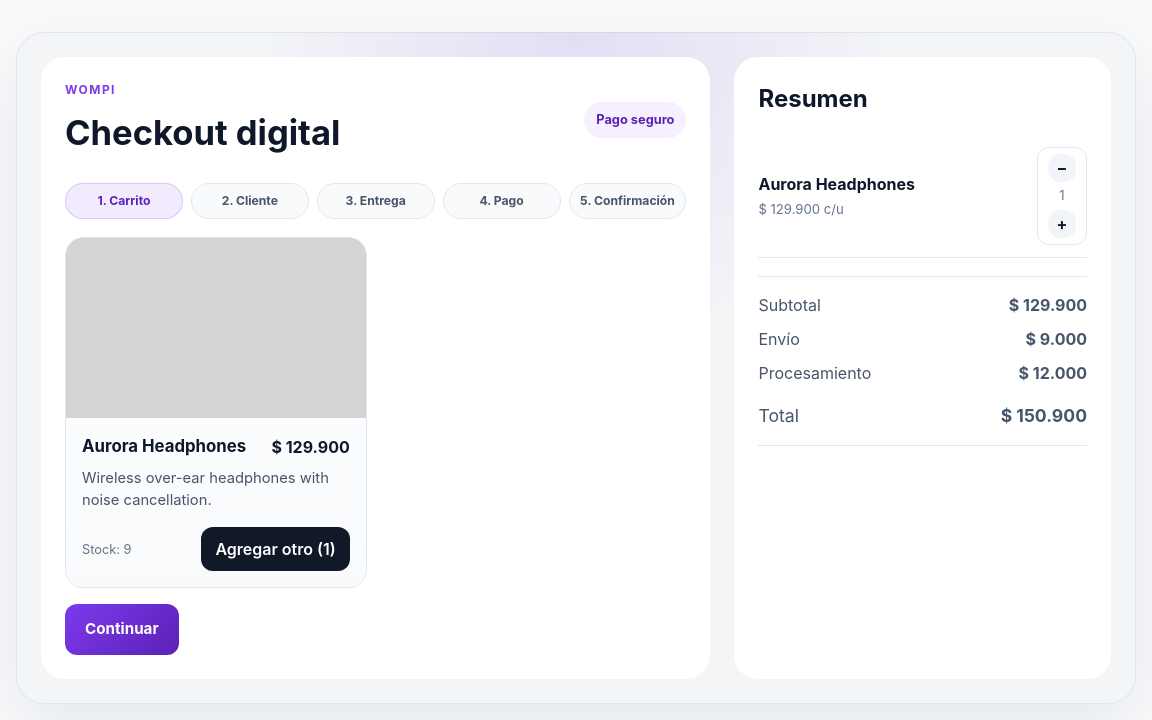
Test case: App checkout flow › Step navigation › allows going back to previous steps
The image size is (1152, 720).
Check: the heading "Aurora Headphones" is shown, box [82,434,246,459]
Check: the text "Aurora Headphones" is shown, box [758,172,915,196]
# Navigate to step 2
Click the button "Continuar": (122, 630) [65,604,179,655]
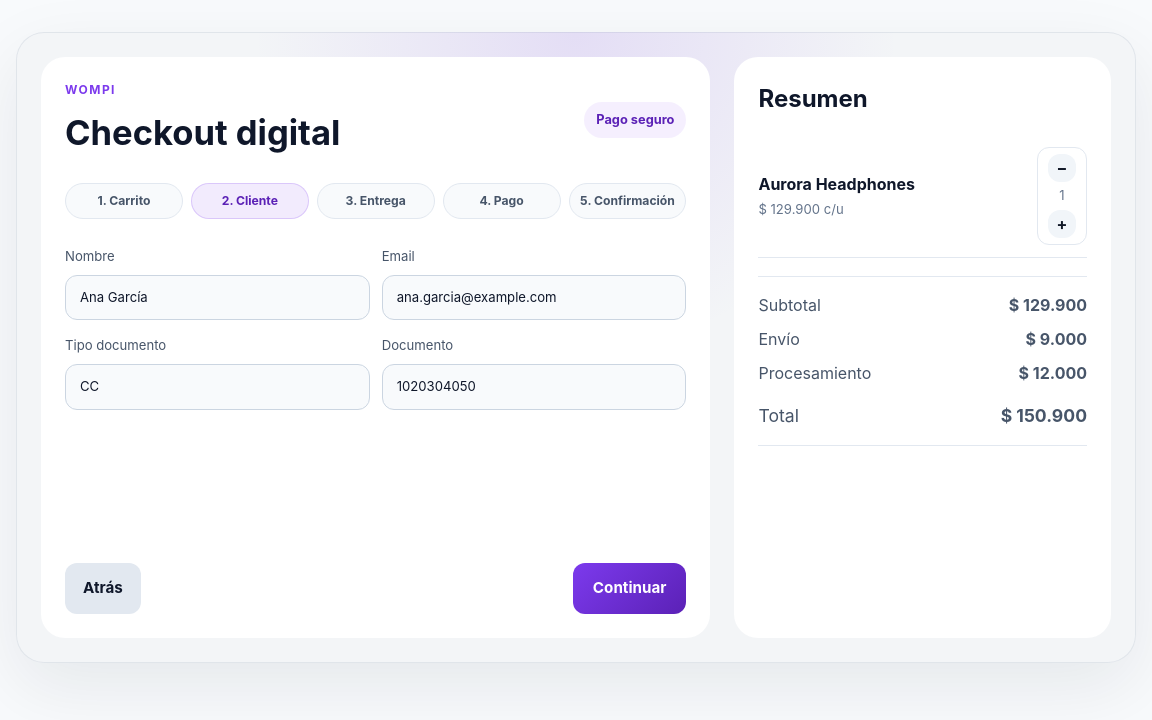
Check: the field labelled "Nombre" is shown, box [65,275,370,320]
# Now on step 2, go back
Click the button "Atrás": (103, 588) [65,563,141,614]
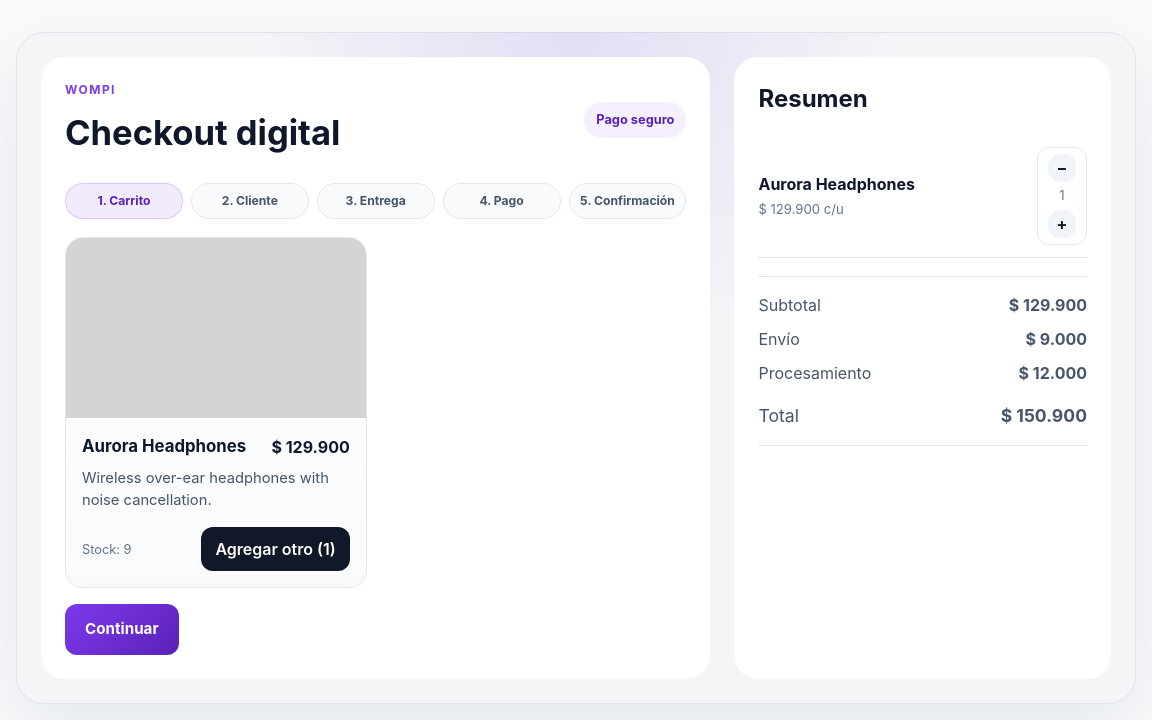
Check: the heading "Aurora Headphones" is shown, box [82,434,246,459]
